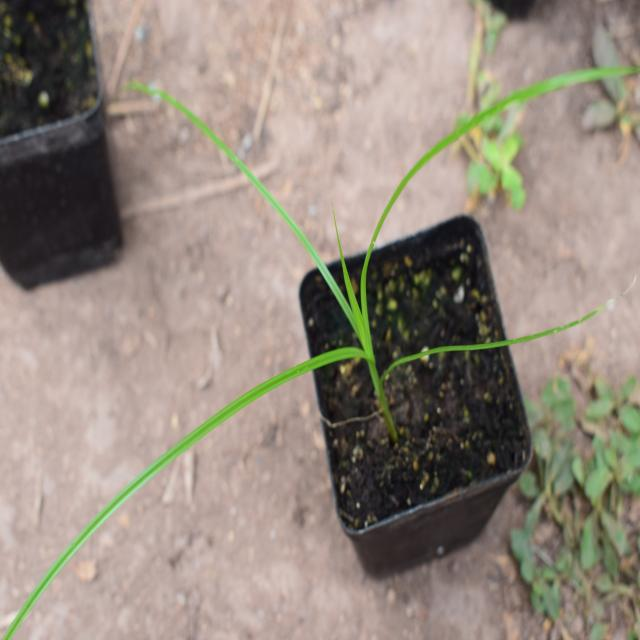sedge: (0, 87, 503, 514)
